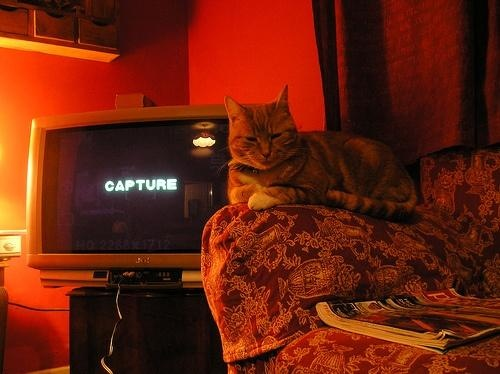cat: (223, 83, 421, 223)
sofa: (199, 142, 500, 374)
tvmonitor: (24, 104, 235, 287)
